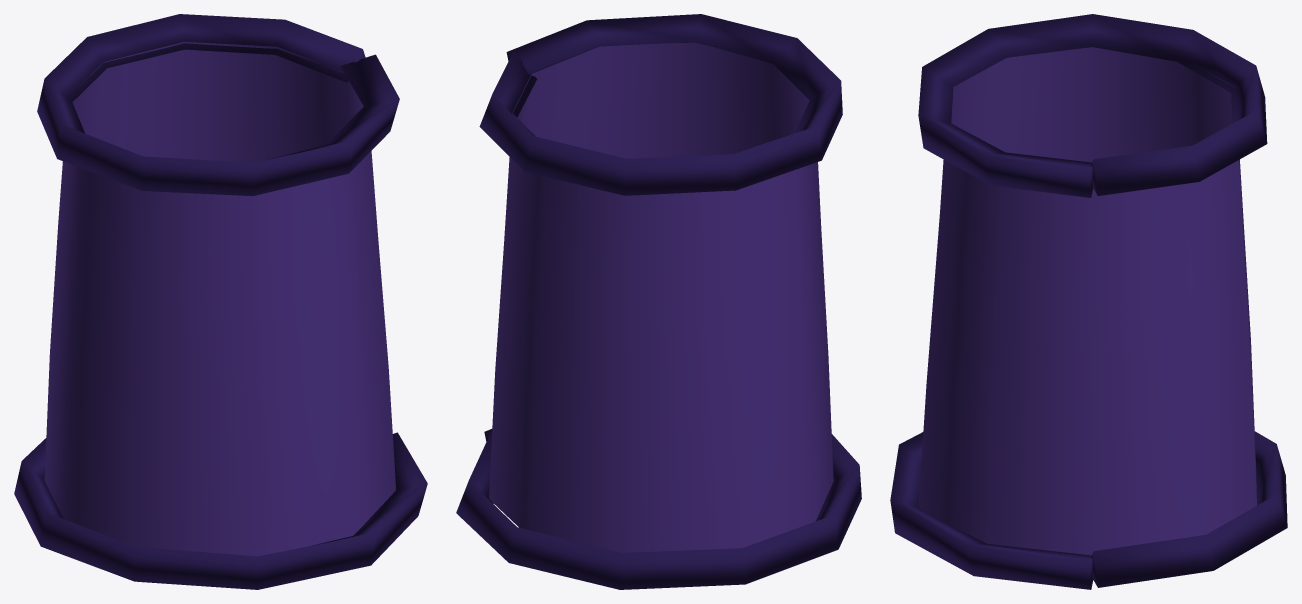
File: beetle_armor_bracer.R.glb
3 views of the same model, side by side, from view 1: azimuth 30°, elevation 25°; view 2: azimuth 150°, elevation 25°; view 3: azimuth 270°, elevation 25° (orthographic).
Parts seen in each view (by area): view 1: beetle_armor_bracer.R; view 2: beetle_armor_bracer.R; view 3: beetle_armor_bracer.R.
Part boxes in pixels (bbox=[...]): beetle_armor_bracer.R: bbox=[14, 14, 427, 589]; beetle_armor_bracer.R: bbox=[456, 14, 861, 589]; beetle_armor_bracer.R: bbox=[890, 14, 1287, 589].
Bounding box in the file's own units: 0.1516 × 0.1719 × 0.1476.
